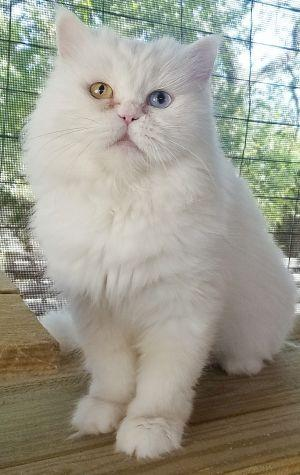persian: (41, 6, 238, 178)
